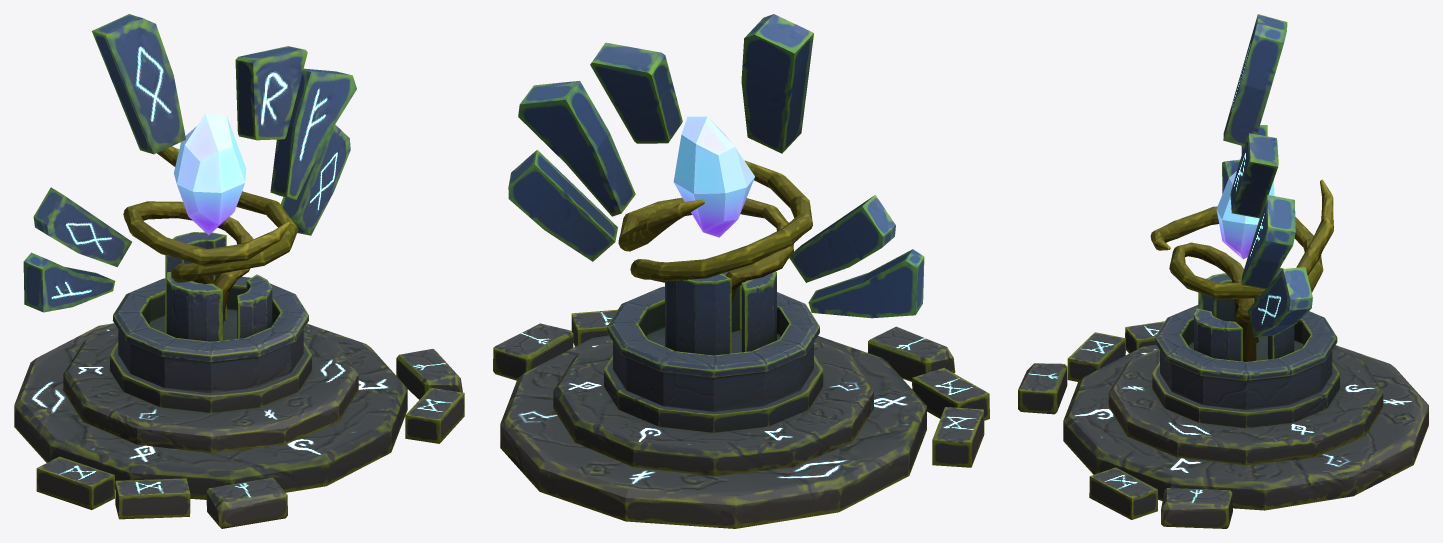
Rendered from rune_stones.glb.
3 renders of one model, left to right at view 1: azimuth 30°, elevation 25°; view 2: azimuth 150°, elevation 25°; view 3: azimuth 270°, elevation 25°, orthographic. The views are drawn at different scales.
Visible parts, largest first — view 1: pCylinder2_low1, pCylinder1_low, pCylinder2_low, pCube2_low, pCube6, pCube3_low1, pCube1_low, tree_low, pCube2_low1, pCube3_low, tru1_low, pCube2_low2 (+8 smaller); view 2: pCylinder2_low1, pCylinder1_low, pCylinder2_low, pCube2_low, pCube3_low1, pCube6, pCube1_low, pCube2_low2, pCube3_low, tree_low, tru2_low, pCube2_low1 (+7 smaller); view 3: pCylinder2_low1, pCylinder1_low, pCylinder2_low, tree_low1, pCube2_low, pCube3_low1, pCube2_low2, pCube1_low, pCube4_low, tree_low, pCube5_low5, pCube4_low1 (+6 smaller).
Part boxes in pixels (x1=…): pCylinder2_low1: x1=14, y1=323, x2=407, y2=499; pCylinder1_low: x1=110, y1=276, x2=311, y2=412; pCylinder2_low: x1=63, y1=327, x2=358, y2=452; pCube2_low: x1=92, y1=14, x2=185, y2=154; pCube6: x1=174, y1=113, x2=246, y2=235; pCube3_low1: x1=270, y1=68, x2=356, y2=199; pCube1_low: x1=235, y1=46, x2=307, y2=140; tree_low: x1=123, y1=201, x2=290, y2=324; pCube2_low1: x1=33, y1=187, x2=131, y2=267; pCube3_low: x1=23, y1=252, x2=115, y2=312; tru1_low: x1=166, y1=271, x2=222, y2=341; pCube2_low2: x1=280, y1=124, x2=350, y2=235; pCylinder2_low1: x1=500, y1=335, x2=926, y2=528; pCylinder1_low: x1=604, y1=286, x2=823, y2=432; pCylinder2_low: x1=553, y1=340, x2=873, y2=476; pCube2_low: x1=741, y1=14, x2=813, y2=153; pCube3_low1: x1=518, y1=80, x2=635, y2=216; pCube6: x1=673, y1=116, x2=754, y2=237; pCube1_low: x1=590, y1=42, x2=682, y2=143; pCube2_low2: x1=508, y1=150, x2=617, y2=261; pCube3_low: x1=808, y1=249, x2=924, y2=318; tree_low: x1=630, y1=160, x2=812, y2=282; tru2_low: x1=665, y1=274, x2=731, y2=355; pCube2_low1: x1=788, y1=195, x2=895, y2=282; pCylinder2_low1: x1=1063, y1=345, x2=1428, y2=510; pCylinder1_low: x1=1152, y1=305, x2=1339, y2=427; pCylinder2_low: x1=1108, y1=348, x2=1383, y2=465; tree_low1: x1=1169, y1=179, x2=1333, y2=359; pCube2_low: x1=1223, y1=14, x2=1287, y2=146; pCube3_low1: x1=1241, y1=195, x2=1295, y2=289; pCube2_low2: x1=1247, y1=267, x2=1312, y2=337; pCube1_low: x1=1230, y1=133, x2=1278, y2=218; pCube4_low: x1=1161, y1=488, x2=1232, y2=528; tree_low: x1=1150, y1=206, x2=1323, y2=361; pCube5_low5: x1=1089, y1=467, x2=1157, y2=519; pCube4_low1: x1=1018, y1=363, x2=1067, y2=414.
Bounding box in the file's own units: 0.5356 × 0.501 × 0.4883.
1 material, 1 textured.
